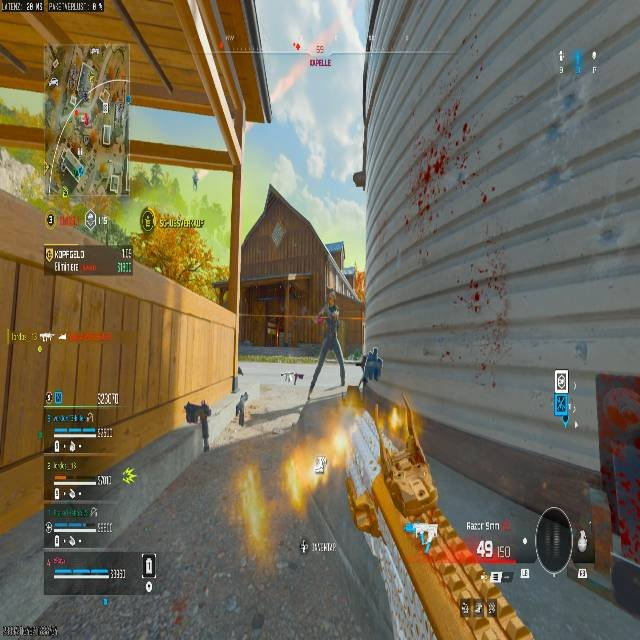head: (326, 293, 336, 305)
player: (314, 292, 343, 364), (357, 347, 383, 386)
